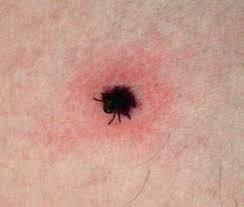Tick: (66, 49, 185, 156)
